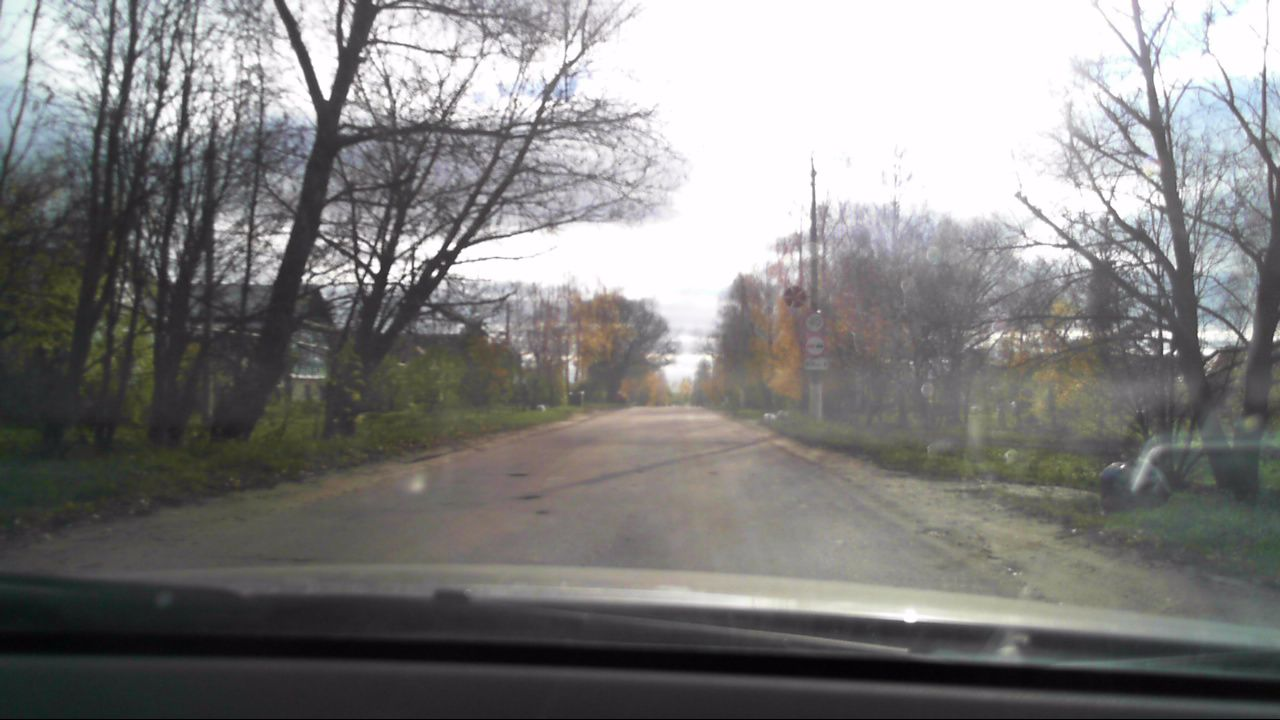speed_warning_40: (805, 311, 826, 331)
